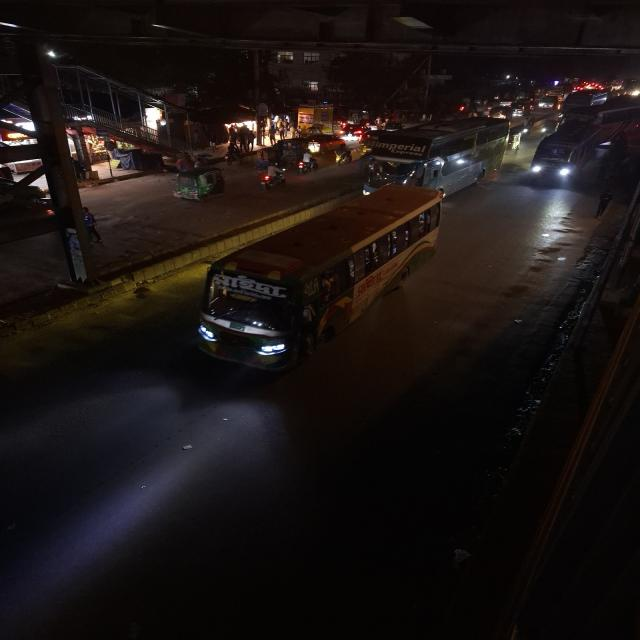bus: (190, 187, 450, 383), (359, 117, 514, 199), (527, 123, 599, 188)
cng: (168, 164, 228, 204)
motorcycle: (252, 161, 288, 191), (292, 148, 320, 175)
